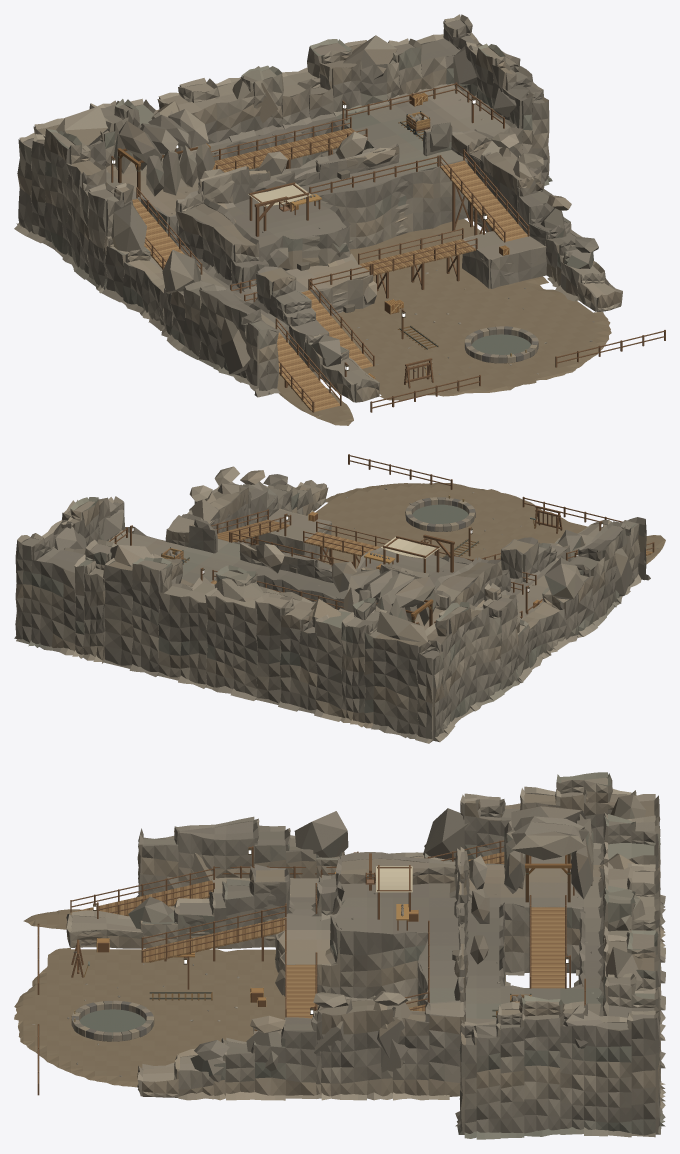
Rendered from quarry-static.glb.
3 renders of one model, top to bottom at view 1: azimuth 30°, elevation 25°; view 2: azimuth 150°, elevation 25°; view 3: azimuth 270°, elevation 25°, orthographic. The views are drawn at different scales.
Parts seen in each view (by area): view 1: AM_batch_stone, AM_batch_ground, AM_batch_wood, AM_batch_canvas; view 2: AM_batch_stone, AM_batch_ground, AM_batch_wood, AM_batch_canvas; view 3: AM_batch_stone, AM_batch_ground, AM_batch_wood, AM_batch_canvas.
Part boxes in pixels (bbox=[...]): AM_batch_stone: bbox=[14, 14, 622, 415]; AM_batch_ground: bbox=[277, 219, 611, 425]; AM_batch_wood: bbox=[111, 82, 665, 412]; AM_batch_canvas: bbox=[248, 183, 311, 206]; AM_batch_stone: bbox=[14, 466, 658, 743]; AM_batch_ground: bbox=[315, 483, 665, 568]; AM_batch_wood: bbox=[109, 454, 654, 626]; AM_batch_canvas: bbox=[381, 537, 440, 558]; AM_batch_stone: bbox=[31, 772, 665, 1139]; AM_batch_ground: bbox=[14, 909, 417, 1087]; AM_batch_wood: bbox=[37, 840, 585, 1095]; AM_batch_canvas: bbox=[376, 866, 412, 892].
Bounding box in the file's own units: 49.19 × 12.08 × 54.65.
6 materials, 2 textured.
